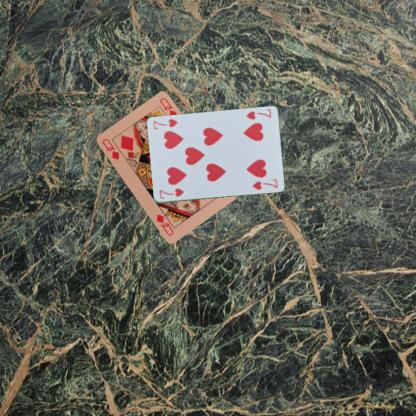7h: (156, 186, 185, 200), (243, 107, 272, 121)
Qd: (99, 136, 121, 161)
